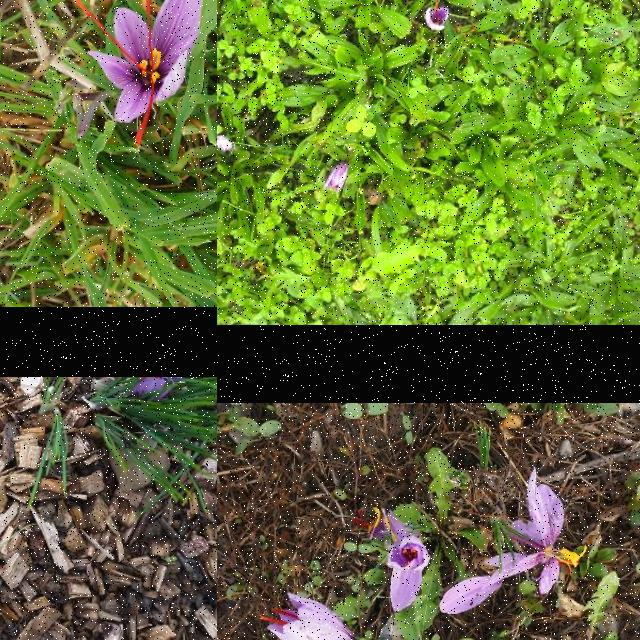flower: (72, 0, 206, 146), (258, 594, 359, 640), (386, 536, 432, 614), (133, 377, 182, 403), (324, 162, 348, 200), (424, 0, 449, 32), (217, 136, 234, 152)
